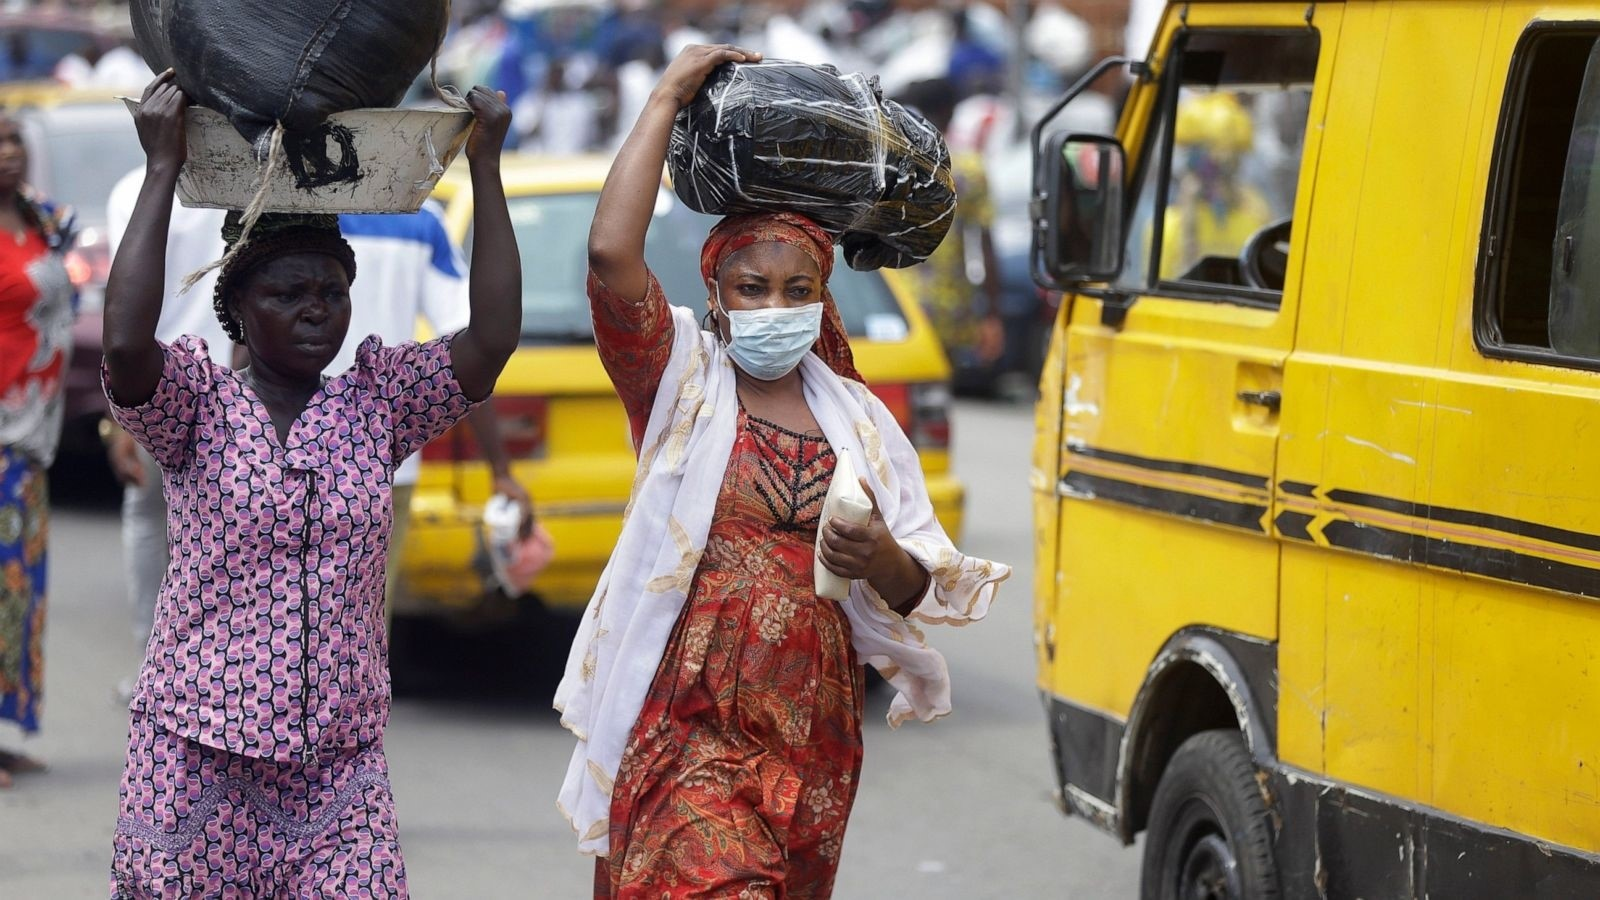face_no_mask: (2, 120, 34, 203)
face_with_mask: (699, 209, 831, 387)
